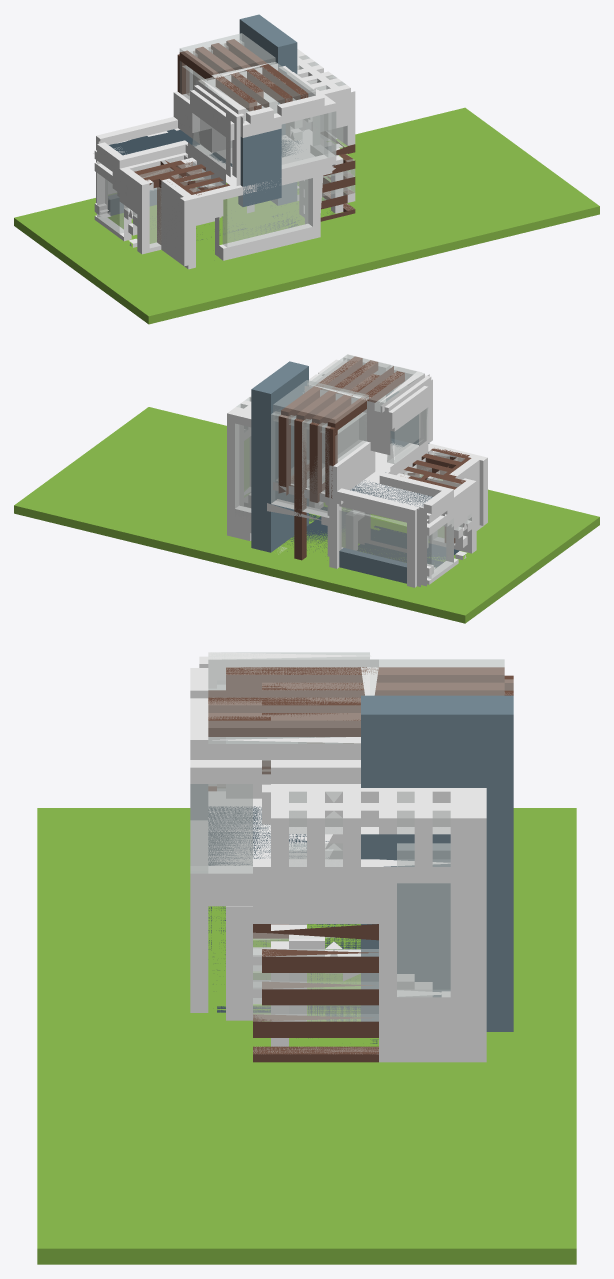
File: mansion.glb
3 views of the same model, one above another, from view 1: azimuth 30°, elevation 25°; view 2: azimuth 150°, elevation 25°; view 3: azimuth 270°, elevation 25° (orthographic). The views are drawn at different scales.
Visible parts, largest first — view 1: Node; view 2: Node; view 3: Node.
Boxes of the visible parts, x1=… form: Node: x1=14, y1=14, x2=599, y2=324; Node: x1=14, y1=354, x2=599, y2=623; Node: x1=37, y1=652, x2=576, y2=1264.
Bounding box in the file's own units: 1.16 × 0.42 × 0.6.
